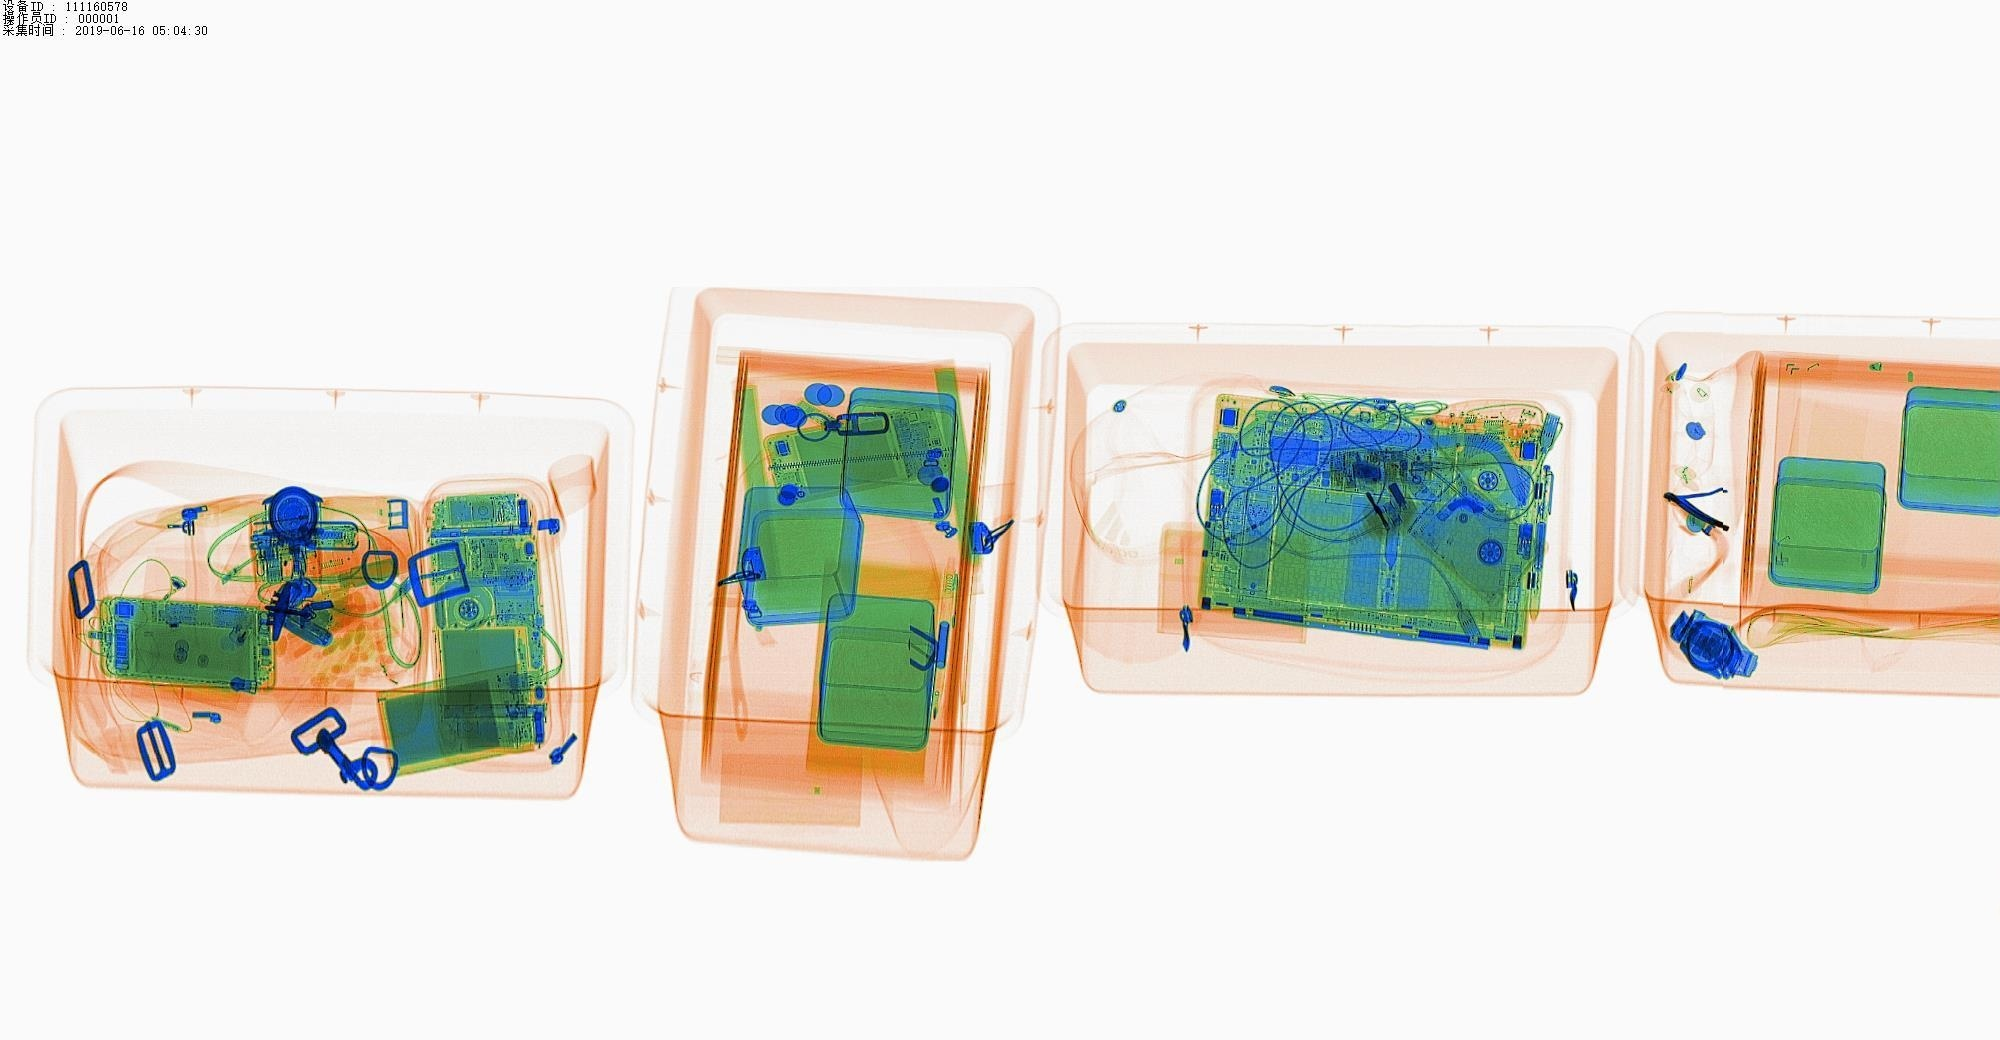NonmetallicFire: (224, 570, 288, 647)
